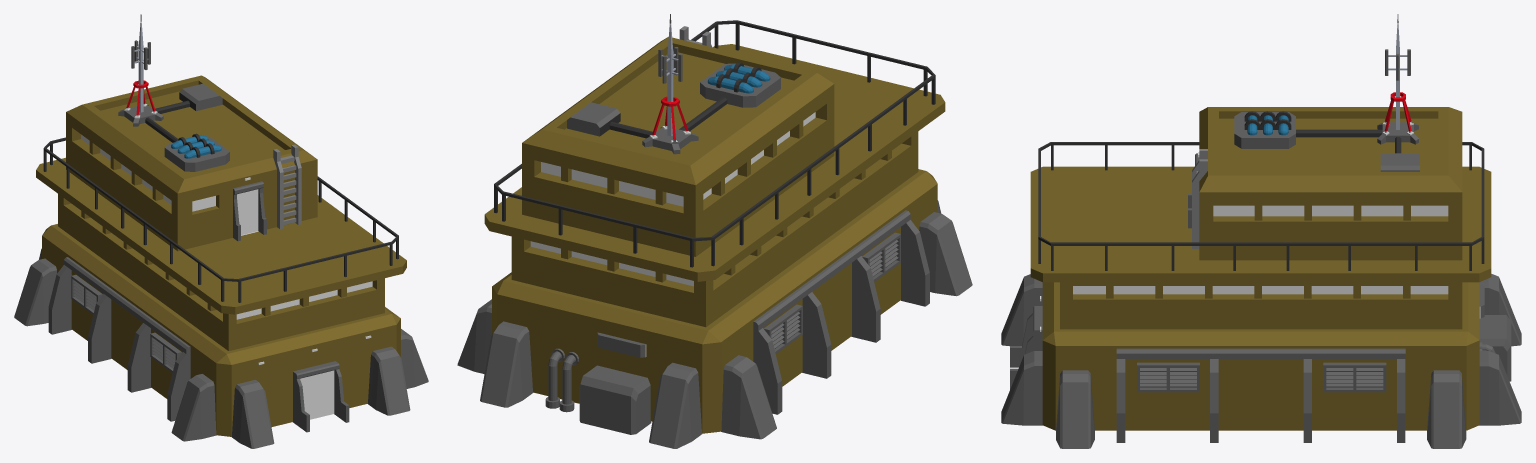
The model's file is HOMETOWERDEFEND.fbx.
3 renders of one model, left to right at view 1: azimuth 30°, elevation 25°; view 2: azimuth 150°, elevation 25°; view 3: azimuth 270°, elevation 25°, orthographic. The views are drawn at different scales.
Parts seen in each view (by area): view 1: Office building_1_; view 2: Office building_1_; view 3: Office building_1_.
Part boxes in pixels (x1=…): Office building_1_: x1=14, y1=14, x2=428, y2=448; Office building_1_: x1=457, y1=14, x2=972, y2=448; Office building_1_: x1=1001, y1=14, x2=1521, y2=448.
Bounding box in the file's own units: 338 × 393 × 525.
